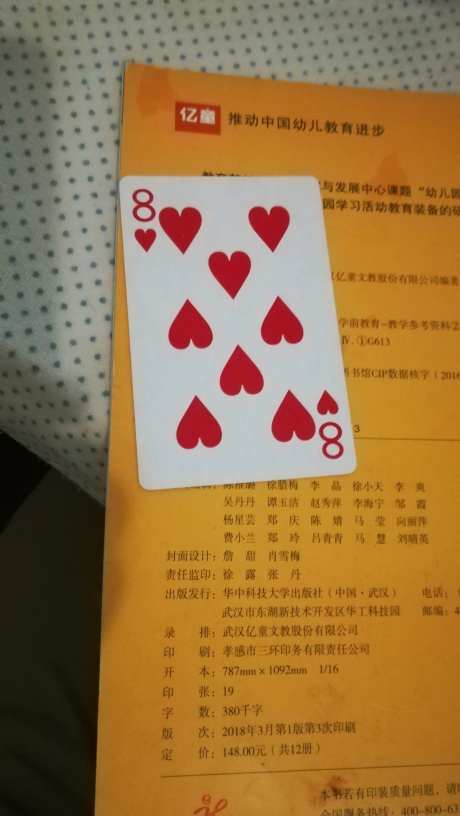hx 8: (121, 170, 358, 486)
